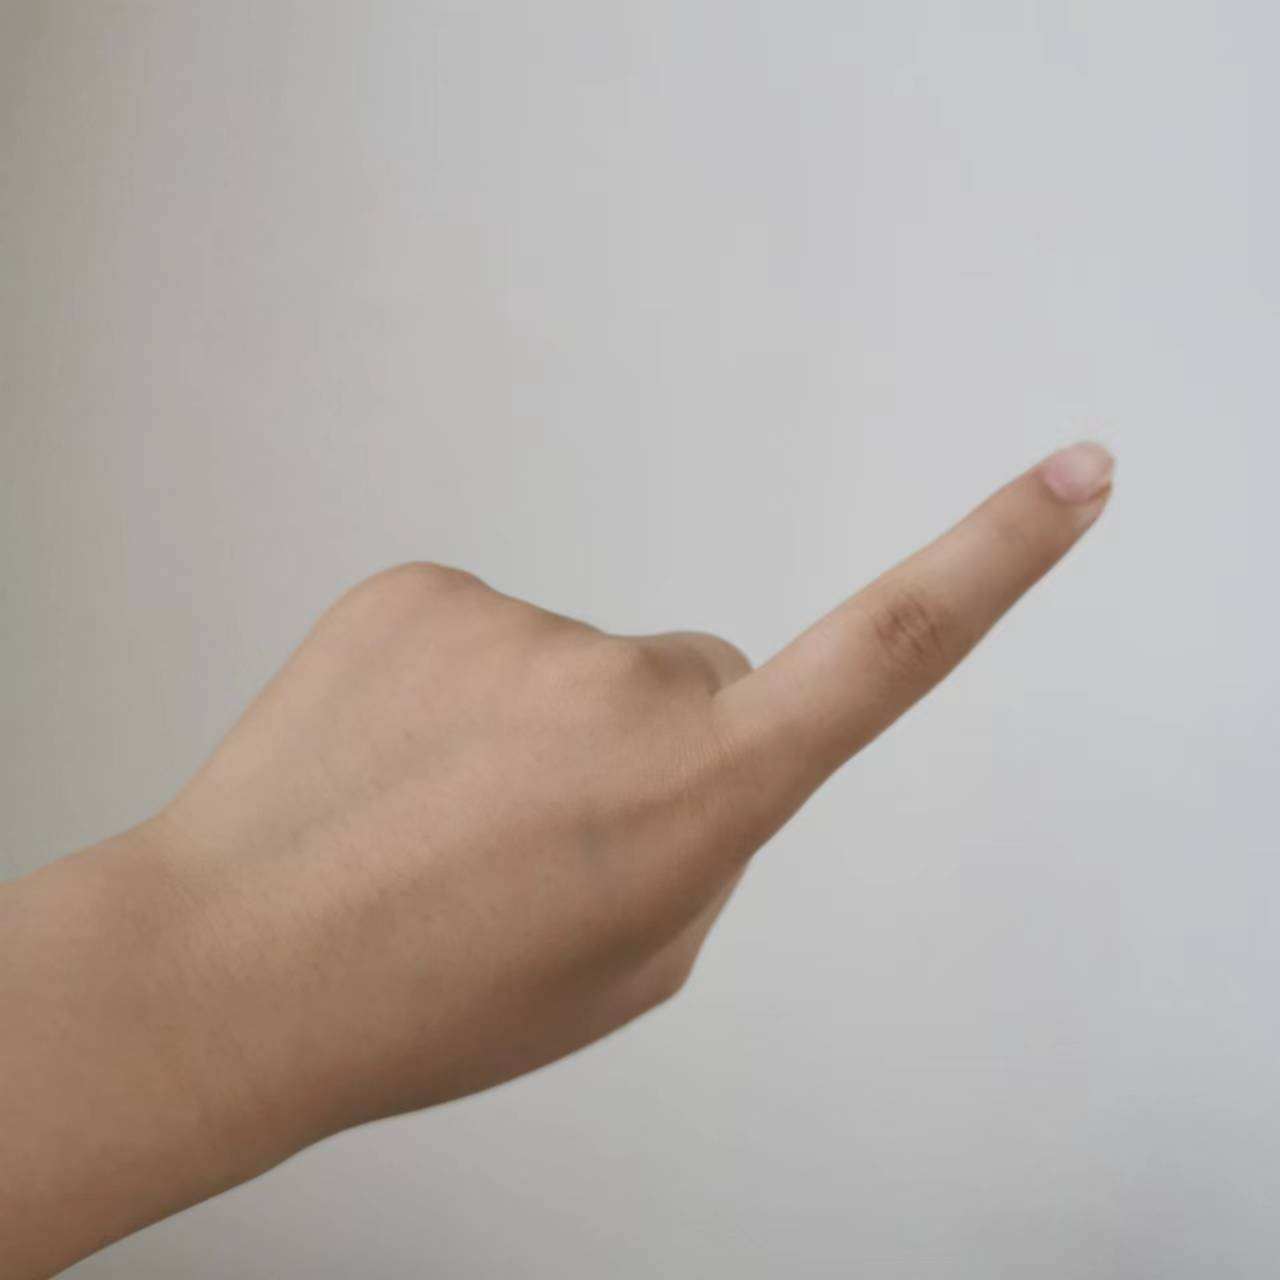up: (129, 425, 1126, 1124)
